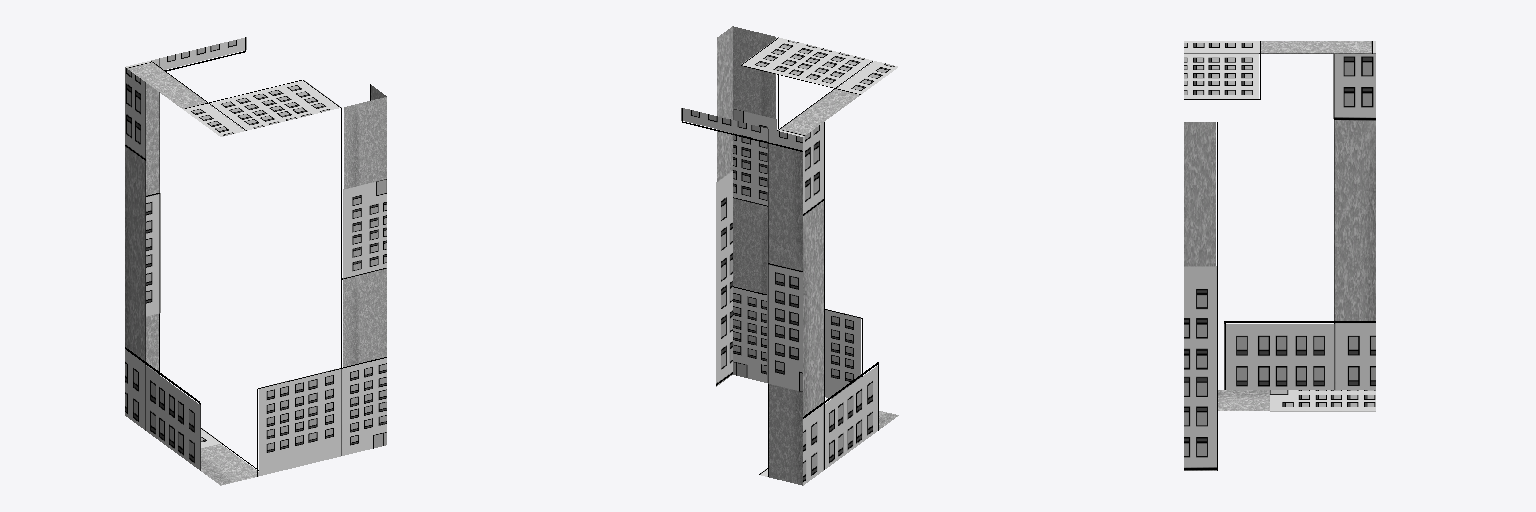
3 views of the same model, side by side, from view 1: azimuth 30°, elevation 25°; view 2: azimuth 150°, elevation 25°; view 3: azimuth 270°, elevation 25° (orthographic).
Parts seen in each view (by area): view 1: pCube1; view 2: pCube1; view 3: pCube1.
Part boxes in pixels (left/top/right/bottom): pCube1: left=125, top=37, right=386, bottom=485; pCube1: left=681, top=26, right=898, bottom=485; pCube1: left=1184, top=41, right=1375, bottom=470.
Bounding box in the file's own units: 1 × 2 × 1.
1 materials, 1 textured.